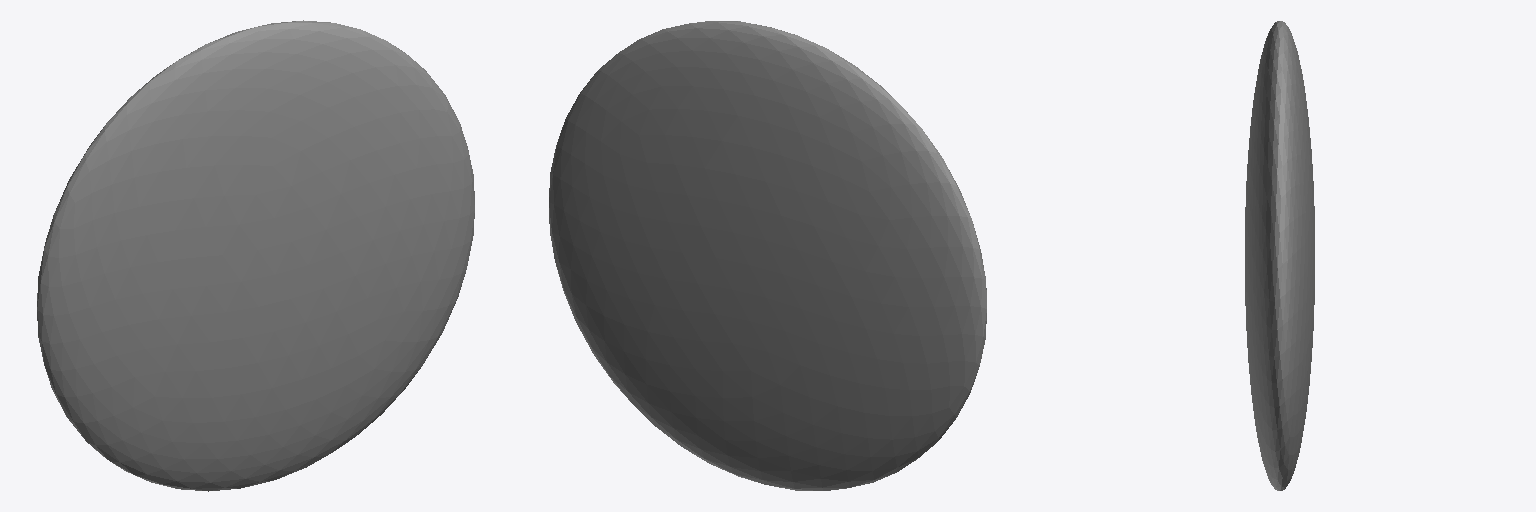
robot.urdf — coinsPlanar_v1:
<?xml version="1.0" ?>
<!-- =================================================================================== -->
<!-- |    This document was autogenerated by xacro from [local-path]/dev/nyu_finger/workspace/src/catkin/robots/robot_properties/robot_properties_fingers/xacro/edu/fingeredu.urdf.xacro | -->
<!-- |    EDITING THIS FILE BY HAND IS NOT RECOMMENDED                                 | -->
<!-- =================================================================================== -->
<robot name="coinsPlanar_v1" xmlns:xacro="https://ei.is.tuebingen.mpg.de/xacro">
  <!--
    Frames are defined such that they all align with the base frame when all
    joints are at position zero.

    In zero-configuration the origins of all joints are in one line.

    In zero-configuration the origin of the base link is exactly above the
    finger tip which should make it easy to place the finger in the world.
    -->
  <!--
    Frames are defined such that they all align with the base frame when all
    joints are at position zero.

    In zero-configuration the origins of all joints are in one line.
    -->
  <material name="fingeredu_material">
    <color rgba="0.6 0.6 0.6 1.0"/>
  </material>
  <link name="base_link">
    <visual>
      <origin rpy="0 0 0" xyz="0 0 0"/>
      <geometry>
        <mesh filename="package://example-robot-data/robots/guesss_description/meshes/ellipse.obj" scale="1 1 1"/>
      </geometry>
      <material name="fingeredu_material"/>
    </visual>
    <collision>
      <origin rpy="0 0 0" xyz="0 0 0"/>
      <geometry>
        <mesh filename="package://example-robot-data/robots/guesss_description/meshes/ellipse.obj" scale="1 1 1"/>
      </geometry>
    </collision>
    <inertial>
      <!-- Note: This uses the values from the middle link, assuming
                     that it is similar enough. -->
      <!-- CoM is only estimated based -->
      <origin rpy="0 0 0" xyz="0 0 0"/>
      <mass value="6.47e-3"/>
      <inertia ixx="7.06e-7" ixy="0." ixz="0." iyy="1.36e-6" iyz="0." izz="7.06e-7"/>
    </inertial>
  </link>
  <link name="wing2">
    <visual>
      <origin rpy="0 0 0" xyz="0 0 0"/>
      <geometry>
        <mesh filename="package://example-robot-data/robots/guesss_description/meshes/ellipse.obj" scale="1 1 1"/>
      </geometry>
      <material name="fingeredu_material"/>
    </visual>
    <collision>
      <origin rpy="0 0 0" xyz="0 0 0"/>
      <geometry>
        <mesh filename="package://example-robot-data/robots/guesss_description/meshes/ellipse.obj" scale="1 1 1"/>
      </geometry>
    </collision>
    <inertial>
      <!-- Note: This uses the values from the middle link, assuming
                     that it is similar enough. -->
      <!-- CoM is only estimated based -->
      <origin rpy="0 0 0" xyz="0 0 0"/>
      <mass value="1.294e-3"/>
      <inertia ixx="1.412e-7" ixy="0." ixz="0." iyy="2.72e-7" iyz="0." izz="1.412e-7"/>
    </inertial>
  </link>
  <joint name="wing_joint" type="revolute">
    <parent link="base_link"/>
    <child link="wing2"/>
    <!-- <limit effort="1000" lower="-1.5" upper="1.5" velocity="1000"/> -->
    <limit effort="1000" lower="-3.14159265359" upper="3.14159265359" velocity="1000"/>
    <axis xyz="1 0 0"/>
    <origin rpy="0 0 0" xyz="0 0 0"/>
  </joint>
</robot>

--- Facts derived from the render (not from the file) ---
The picture shows the robot from 3 angles, left to right: view 1: azimuth 30°, elevation 25°; view 2: azimuth 150°, elevation 25°; view 3: azimuth 270°, elevation 25°; orthographic projection.
Model coinsPlanar_v1 with 2 links and 1 joints (1 revolute), rooted at base_link, posed all joints at 0.
Links seen in each view (by area): view 1: base_link; view 2: base_link; view 3: base_link.
Boxes of the visible links, x1,y1,x2,y2 form: base_link: [37, 20, 474, 491]; base_link: [549, 21, 986, 490]; base_link: [1245, 21, 1314, 490].
Size in the robot's own frame: 0.04 by 0.006 by 0.04 metres.
Meshes: 1 distinct files referenced, 2 mesh visuals loaded (1 OBJ).
